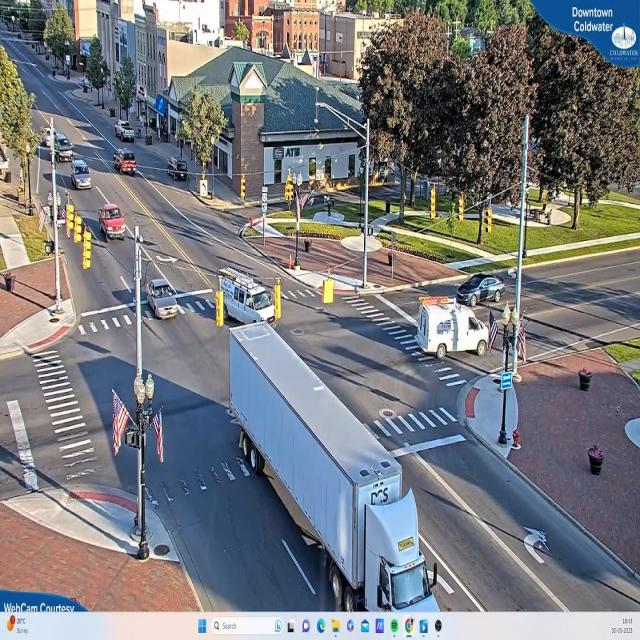car: (416, 296, 495, 362), (147, 271, 177, 327), (458, 274, 505, 304), (99, 205, 129, 241), (73, 162, 94, 188), (116, 152, 138, 175), (117, 122, 137, 144)
truck: (320, 444, 442, 609), (220, 264, 276, 335)
